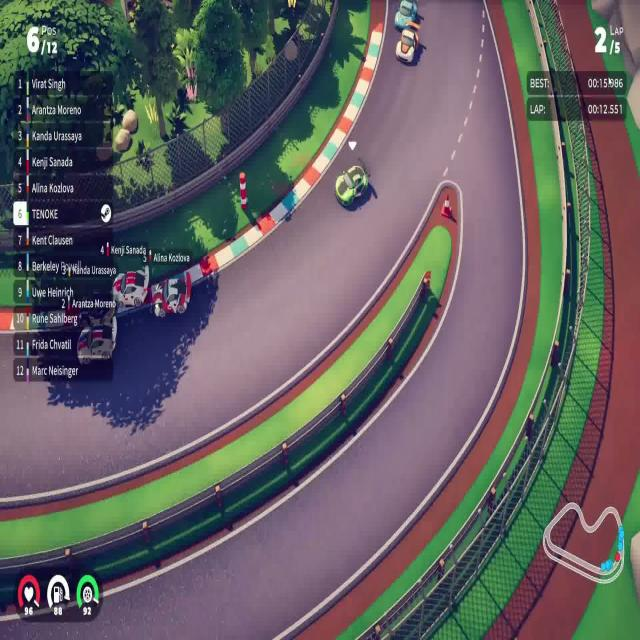car: (76, 309, 117, 367), (151, 268, 192, 319), (110, 264, 150, 311), (334, 163, 369, 207)
